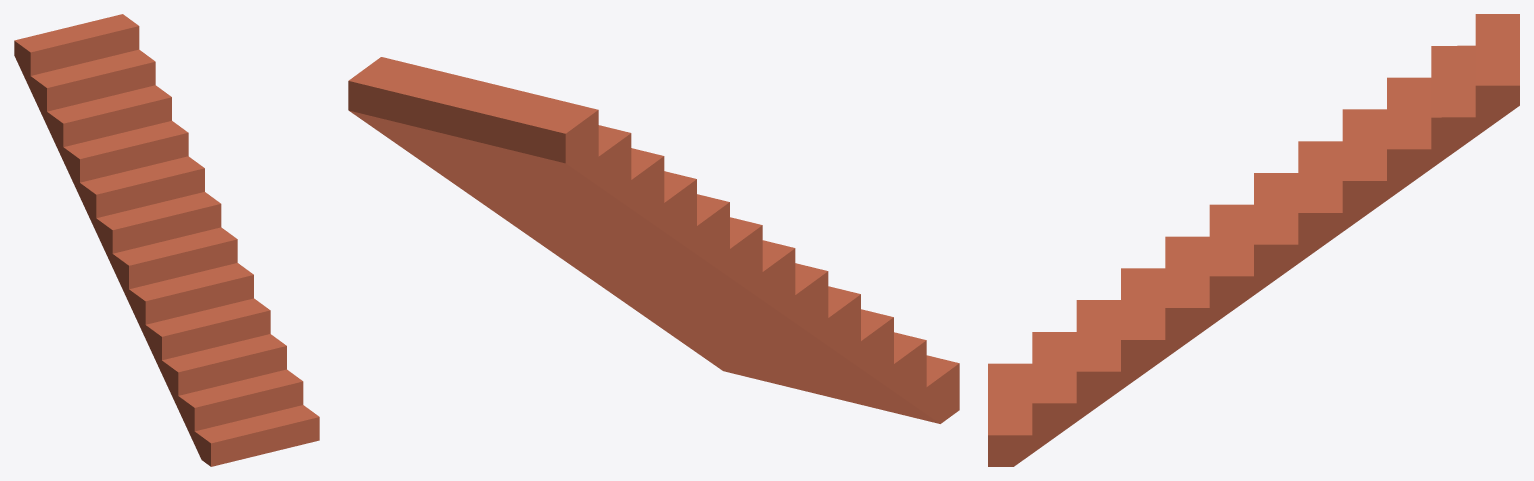
The model's file is Stairs_006.glb.
3 renders of one model, left to right at view 1: azimuth 30°, elevation 25°; view 2: azimuth 150°, elevation 25°; view 3: azimuth 270°, elevation 25°, orthographic. The views are drawn at different scales.
Visible parts, largest first — view 1: Stairs_006; view 2: Stairs_006; view 3: Stairs_006.
Part boxes in pixels (left/top/right/bottom): Stairs_006: left=14, top=14, right=319, bottom=466; Stairs_006: left=348, top=57, right=959, bottom=423; Stairs_006: left=988, top=14, right=1519, bottom=466.
Bounding box in the file's own units: 1.62 × 4.02 × 5.08.
1 material, 1 textured.
